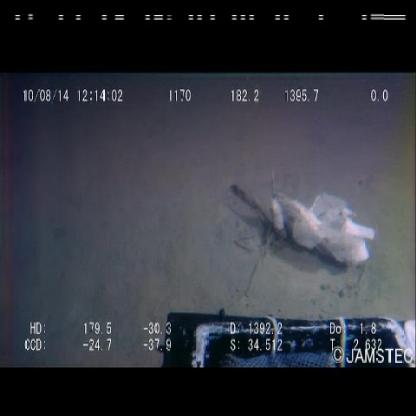Rác: (267, 184, 379, 272)
